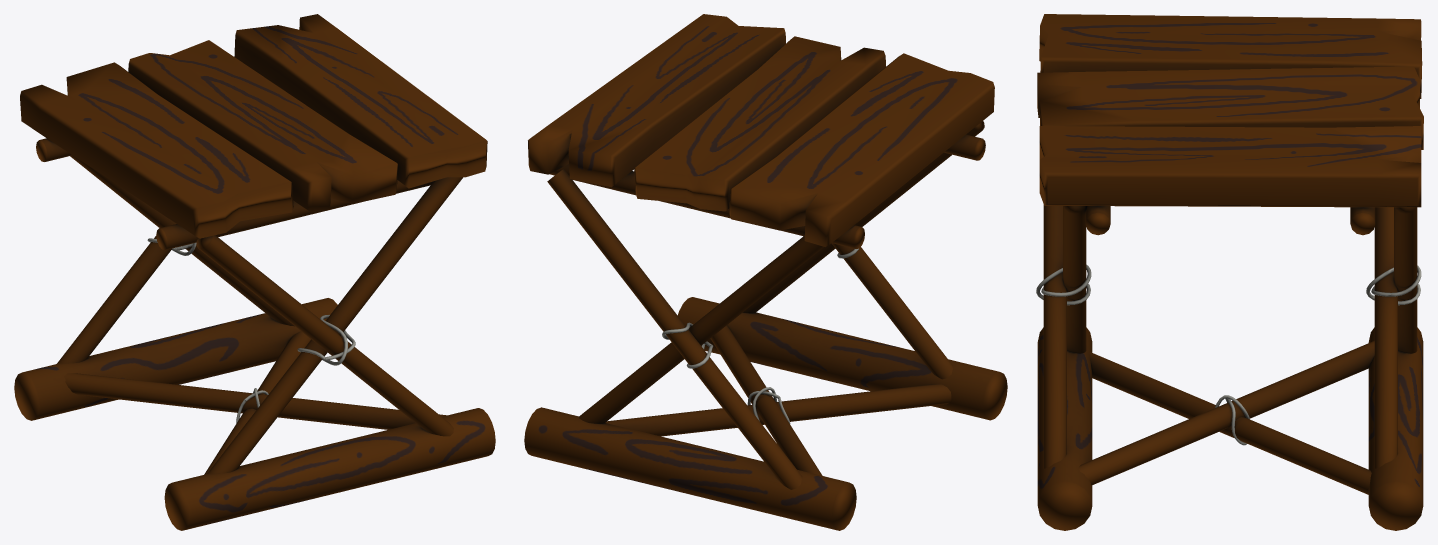
The model's file is bruecke.fbx.
3 renders of one model, left to right at view 1: azimuth 30°, elevation 25°; view 2: azimuth 150°, elevation 25°; view 3: azimuth 270°, elevation 25°, orthographic. The views are drawn at different scales.
Visible parts, largest first — view 1: pCube5, pCube3, pCube4, pCylinder5, pCylinder9, pCylinder2, pCylinder8, pCylinder1, pCylinder4, pCylinder3, pCylinder14, pCylinder7 (+1 smaller); view 2: pCube5, pCube3, pCube4, pCylinder9, pCylinder5, pCylinder4, pCylinder7, pCylinder3, pCylinder8, pCylinder2, pCylinder1, pCylinder13 (+1 smaller); view 3: pCube3, pCube4, pCube5, pCylinder8, pCylinder9, pCylinder5, pCylinder7, pCylinder1, pCylinder3, pCylinder2, pCylinder4, pCylinder14 (+3 smaller).
Boxes of the visible parts, x1,y1,x2,y2 form: pCube5: (20, 62, 293, 238); pCube3: (234, 14, 487, 188); pCube4: (128, 40, 397, 212); pCylinder5: (164, 408, 495, 530); pCylinder9: (14, 298, 341, 420); pCylinder2: (207, 177, 462, 473); pCylinder8: (64, 373, 446, 429); pCylinder1: (196, 235, 453, 436); pCylinder4: (57, 236, 171, 363); pCylinder3: (70, 155, 294, 326); pCylinder14: (156, 180, 433, 250); pCylinder7: (204, 331, 310, 474); pCube5: (729, 53, 994, 246); pCube3: (528, 14, 785, 187); pCube4: (634, 36, 885, 211); pCylinder9: (524, 407, 856, 530); pCylinder5: (678, 297, 1007, 420); pCylinder4: (547, 169, 802, 489); pCylinder7: (605, 384, 951, 436); pCylinder3: (579, 236, 823, 423); pCylinder8: (710, 325, 822, 475); pCylinder2: (831, 243, 952, 379); pCylinder1: (743, 121, 984, 313); pCylinder13: (549, 164, 864, 248); pCube3: (1039, 126, 1421, 207); pCube4: (1037, 66, 1423, 149); pCube5: (1039, 14, 1422, 98); pCylinder8: (1078, 341, 1374, 485); pCylinder9: (1368, 327, 1423, 530); pCylinder5: (1037, 327, 1092, 530); pCylinder7: (1089, 352, 1371, 494); pCylinder1: (1043, 205, 1066, 468); pCylinder3: (1374, 207, 1397, 468); pCylinder2: (1063, 206, 1086, 353); pCylinder4: (1394, 207, 1417, 353); pCylinder14: (1085, 206, 1110, 235).
Bounding box in the file's own units: 100 × 103 × 99.57.
